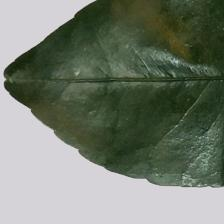healthy: (1, 0, 224, 187)
